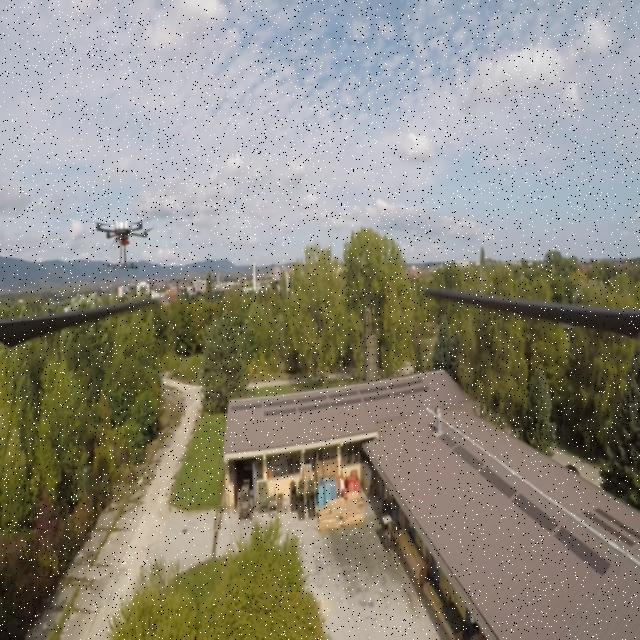UAV: (82, 212, 158, 274)
